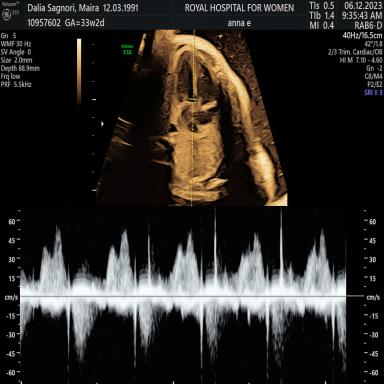Ultrasound-Waves: (23, 209, 345, 384)
